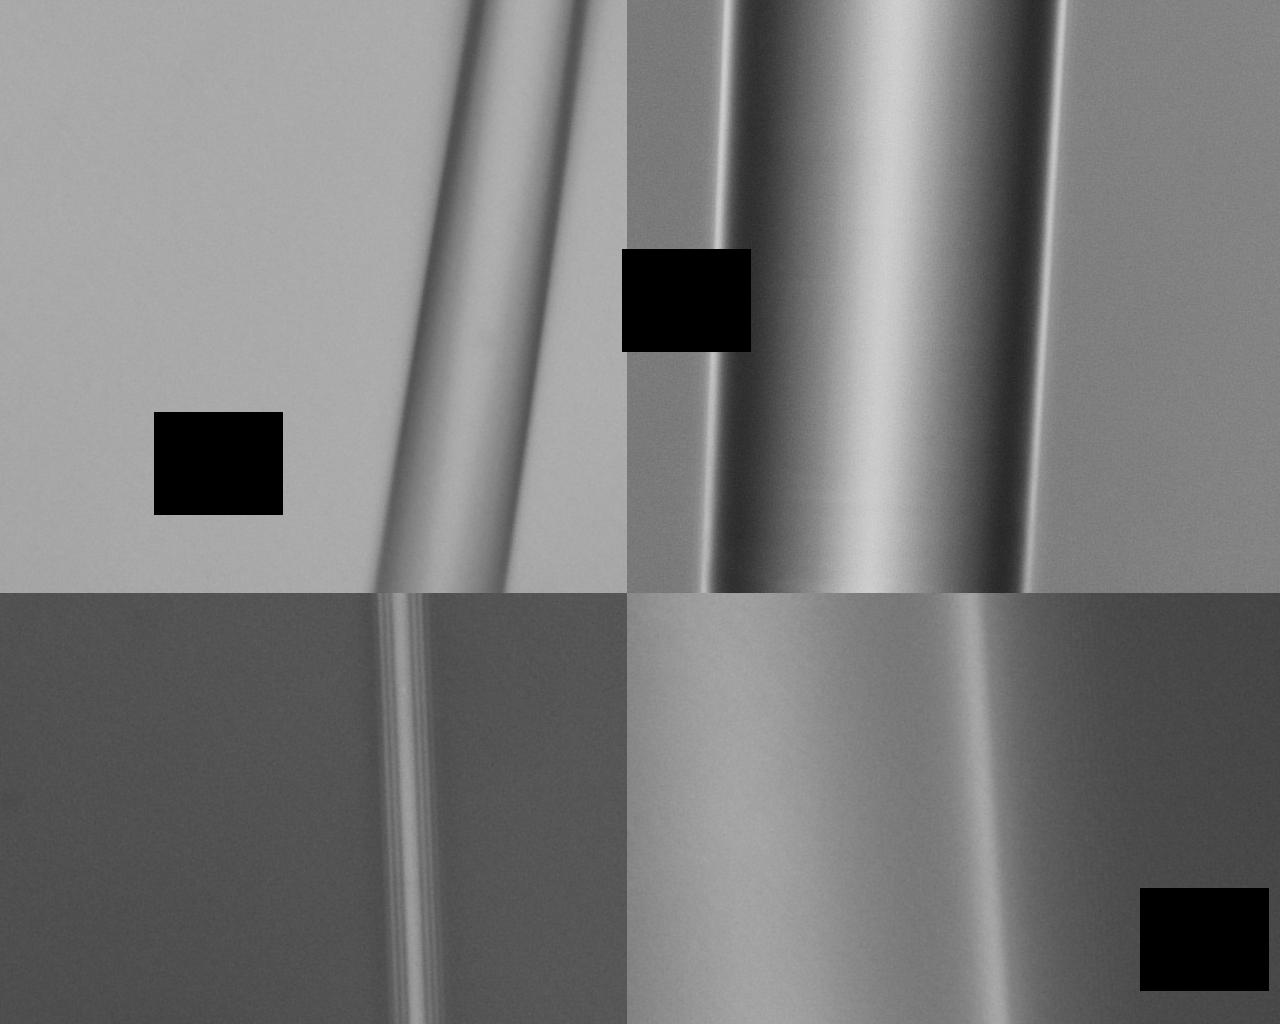fiber: (715, 399, 1280, 1024), (278, 399, 499, 1024), (801, 0, 1069, 399)
